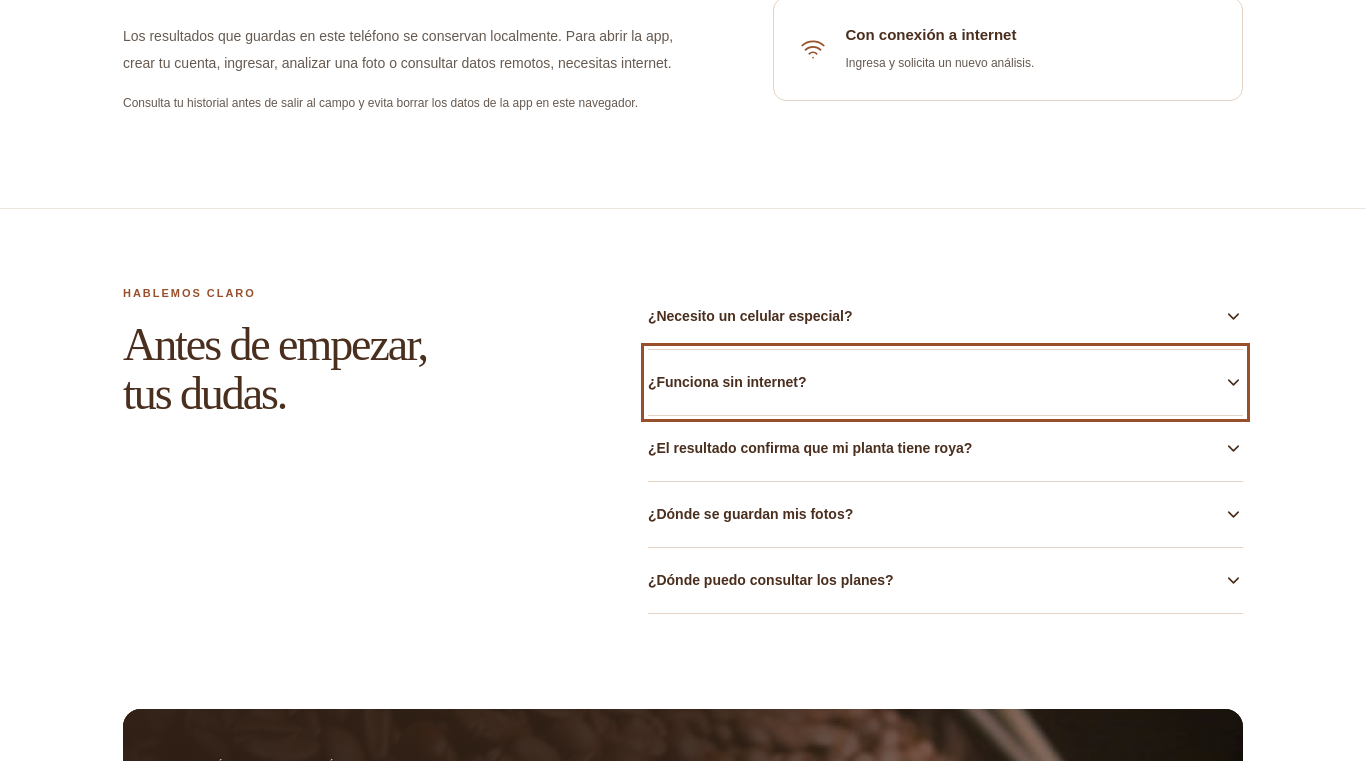
Test: portada pública › permite descubrir los pasos y resolver dudas de conexión al abrir las preguntas
(page scrolled)
Click the heading "¿Funciona sin internet?": (727, 382) [648, 373, 1243, 392]
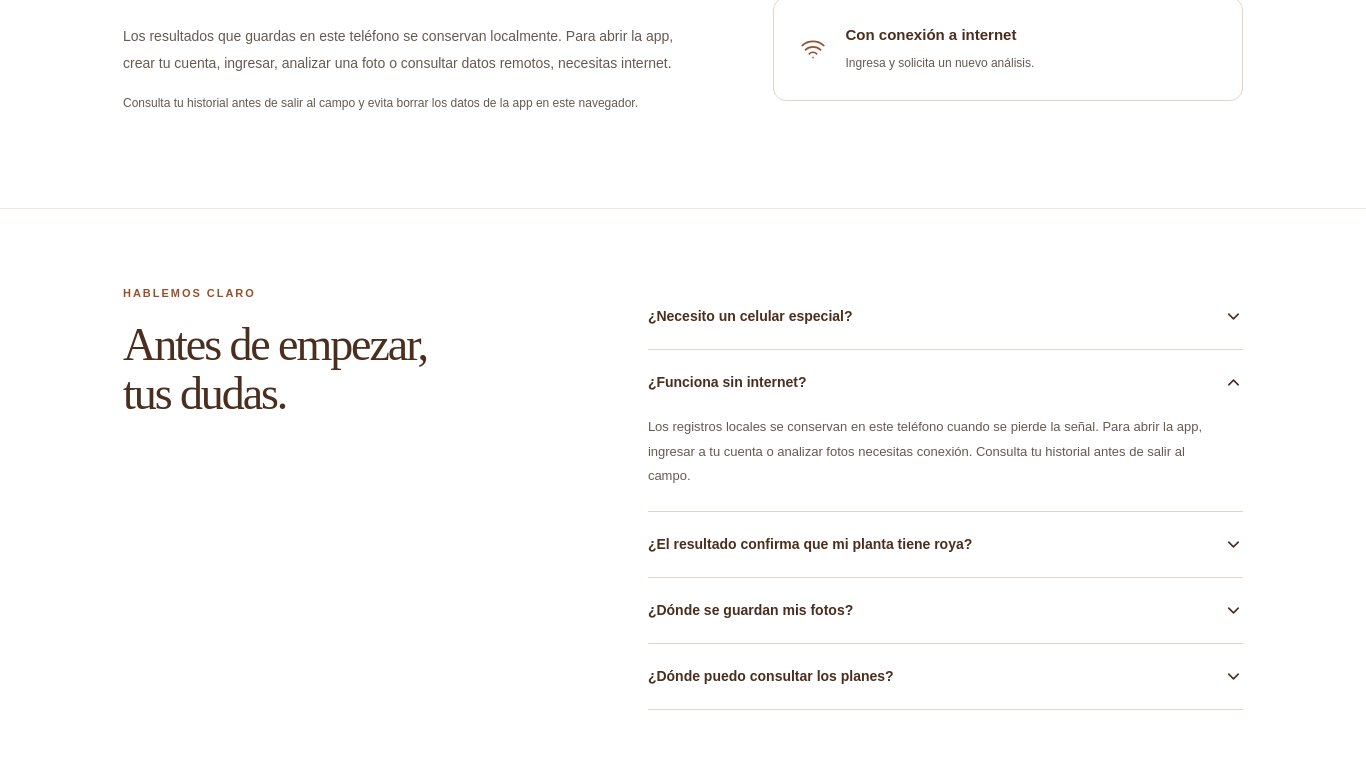
Check: the text "Para abrir la app, ingresar a tu cuenta o analizar fotos necesitas conexión" is shown, box [648, 419, 1202, 484]
Click the heading "¿Funciona sin internet?": (727, 382) [648, 373, 1243, 392]
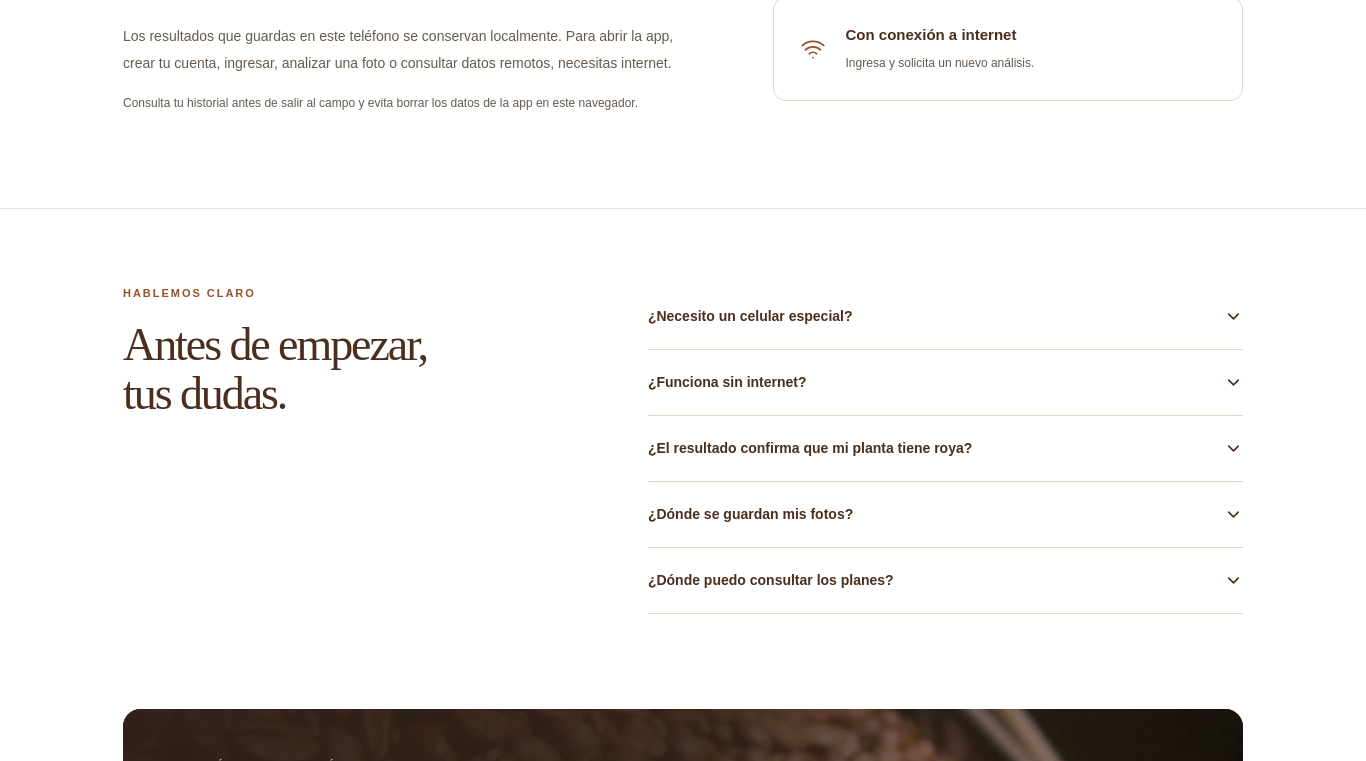
Check: the text "¿Funciona sin internet?" does not have attribute open, box [648, 350, 1243, 416]
